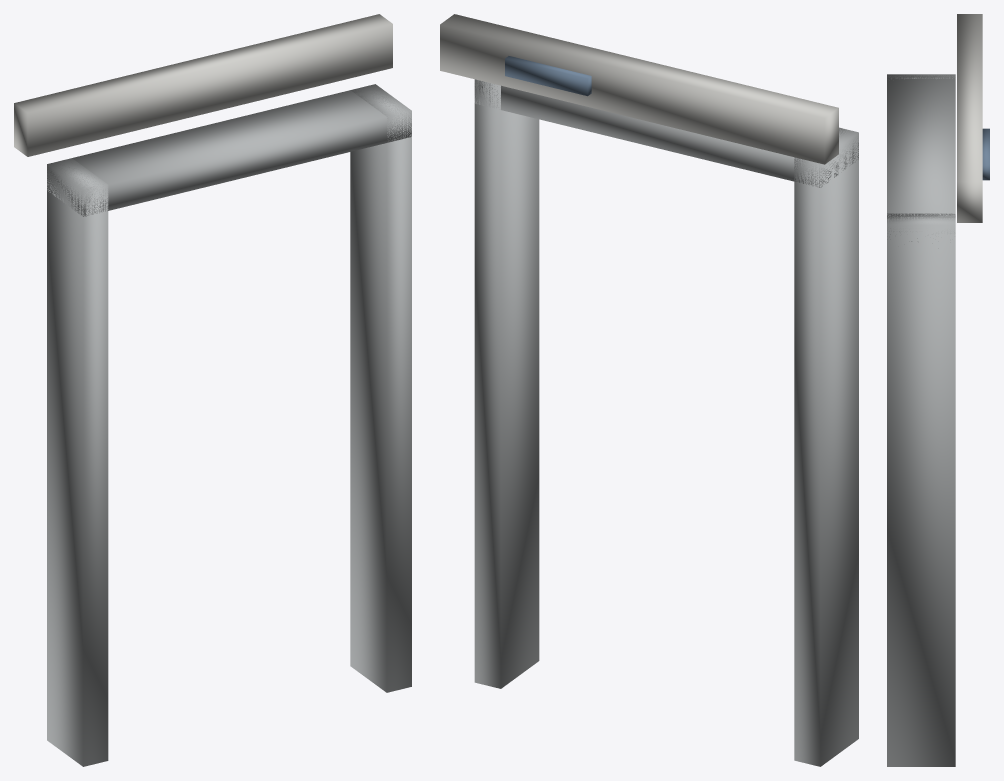
Rendered from doorway_hospital_w106_h200_d24.glb.
3 views of the same model, side by side, from view 1: azimuth 30°, elevation 25°; view 2: azimuth 150°, elevation 25°; view 3: azimuth 270°, elevation 25° (orthographic). The views are drawn at different scales.
Visible parts, largest first — view 1: world; view 2: world; view 3: world.
Boxes of the visible parts, x1,y1,x2,y2 form: world: (14, 14, 411, 766); world: (440, 14, 858, 766); world: (887, 14, 989, 766).
Size of the model in its own units: 1.39 by 2.3 by 0.36.
